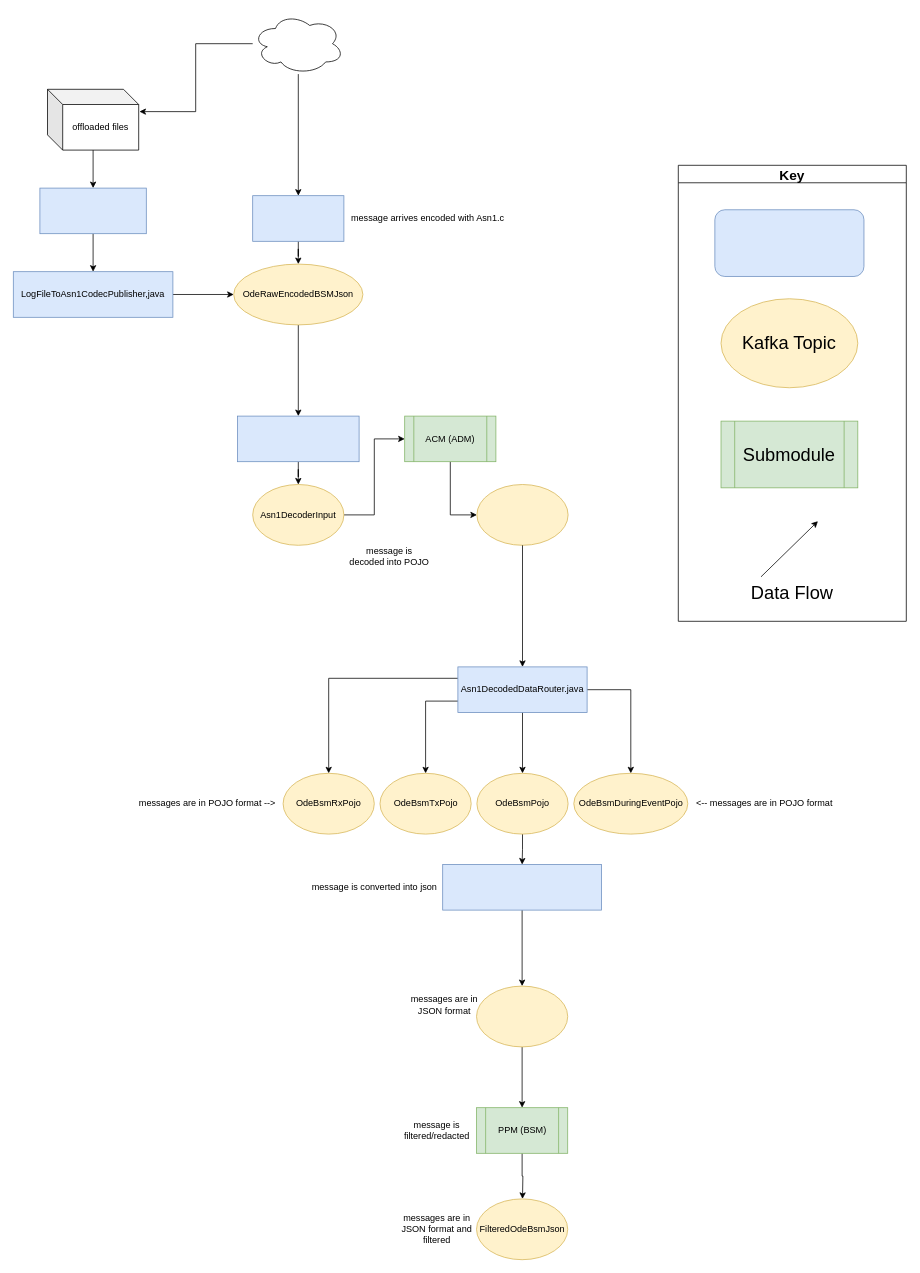
Some shapes in this 920 by 1273 pixel diagram are drawn without their labels. Each missing label, with the centre of its shape:
Asn1DecoderOutput: the point at 522,514
BSMPojoToJSONListener: the point at 522,887
BsmReceiver.java: the point at 298,218
FileUploadController.java: the point at 92,210
ODE Java Class: the point at 789,242
OdeBsmJson: the point at 522,1016
RawEncodedBSMJsonRouter: the point at 298,438
